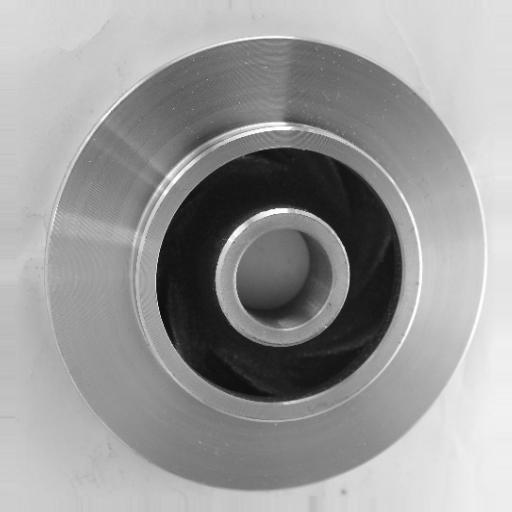polished_casting: (43, 36, 489, 495)
